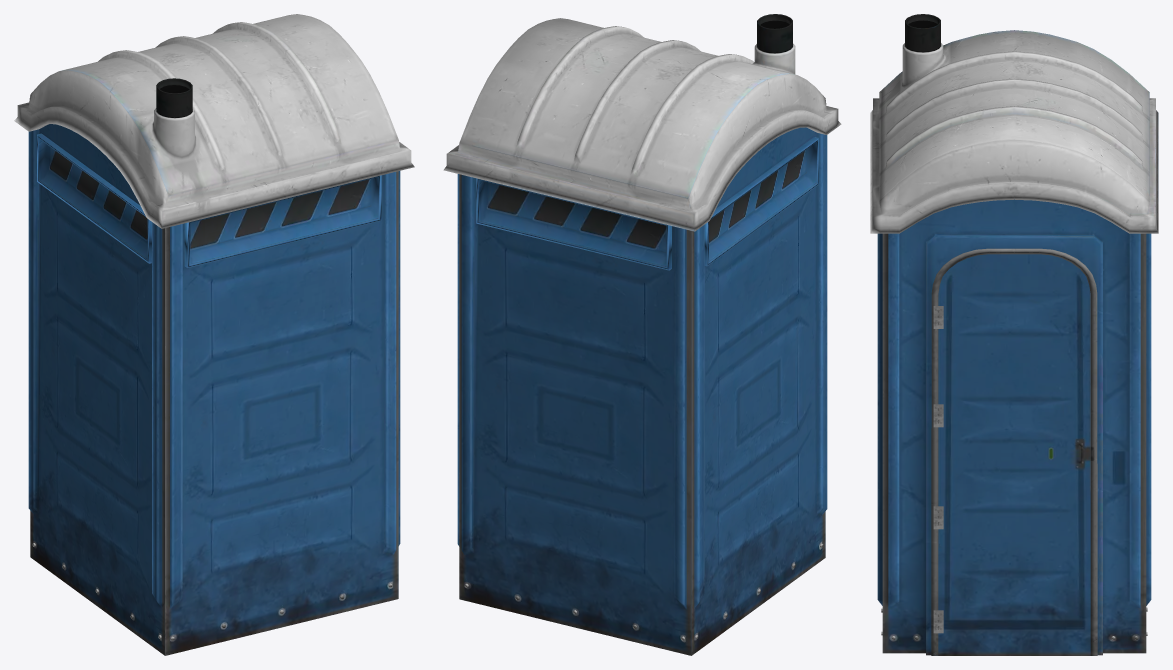
Rendered from sf-toilet.glb.
3 renders of one model, left to right at view 1: azimuth 30°, elevation 25°; view 2: azimuth 150°, elevation 25°; view 3: azimuth 270°, elevation 25°, orthographic. The views are drawn at different scales.
Visible parts, largest first — view 1: RightSIde_LP, BackSide_LP, Roof_LP, Window3_LP, Window2_LP, BackFlap_LP, FrontFace_LP; view 2: LeftSide_LP, Roof_LP, BackSide_LP, Window1_LP, Window2_LP, BackFlap_LP, FrontFace_LP; view 3: Door_LP, FrontFace_LP, Roof_LP, DoorRim_LP, RightSIde_LP, LeftSide_LP.
Part boxes in pixels (<box>): RightSIde_LP: <box>165,171,398,655</box>; BackSide_LP: <box>28,129,164,655</box>; Roof_LP: <box>14,14,414,228</box>; Window3_LP: <box>184,175,381,267</box>; Window2_LP: <box>37,133,151,263</box>; BackFlap_LP: <box>39,124,140,205</box>; FrontFace_LP: <box>398,171,400,545</box>; LeftSide_LP: <box>459,174,691,655</box>; Roof_LP: <box>443,14,841,231</box>; BackSide_LP: <box>691,133,827,655</box>; Window1_LP: <box>476,178,671,270</box>; Window2_LP: <box>704,137,818,266</box>; BackFlap_LP: <box>716,127,816,207</box>; FrontFace_LP: <box>457,174,459,546</box>; Door_LP: <box>938,254,1090,655</box>; FrontFace_LP: <box>882,199,1146,655</box>; Roof_LP: <box>870,14,1158,233</box>; DoorRim_LP: <box>931,248,1097,655</box>; RightSIde_LP: <box>877,233,882,605</box>; LeftSide_LP: <box>1146,233,1151,605</box>.
Size of the model in its own units: 0.9679 by 2 by 0.9776.
1 material, 1 textured.
